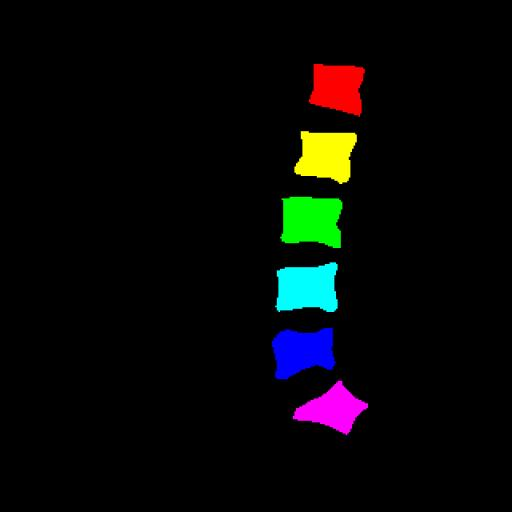L1: (309, 64, 365, 116)
L2: (294, 131, 357, 184)
L3: (281, 197, 342, 248)
L4: (276, 262, 338, 312)
L5: (272, 328, 335, 379)
S1: (293, 381, 368, 434)
